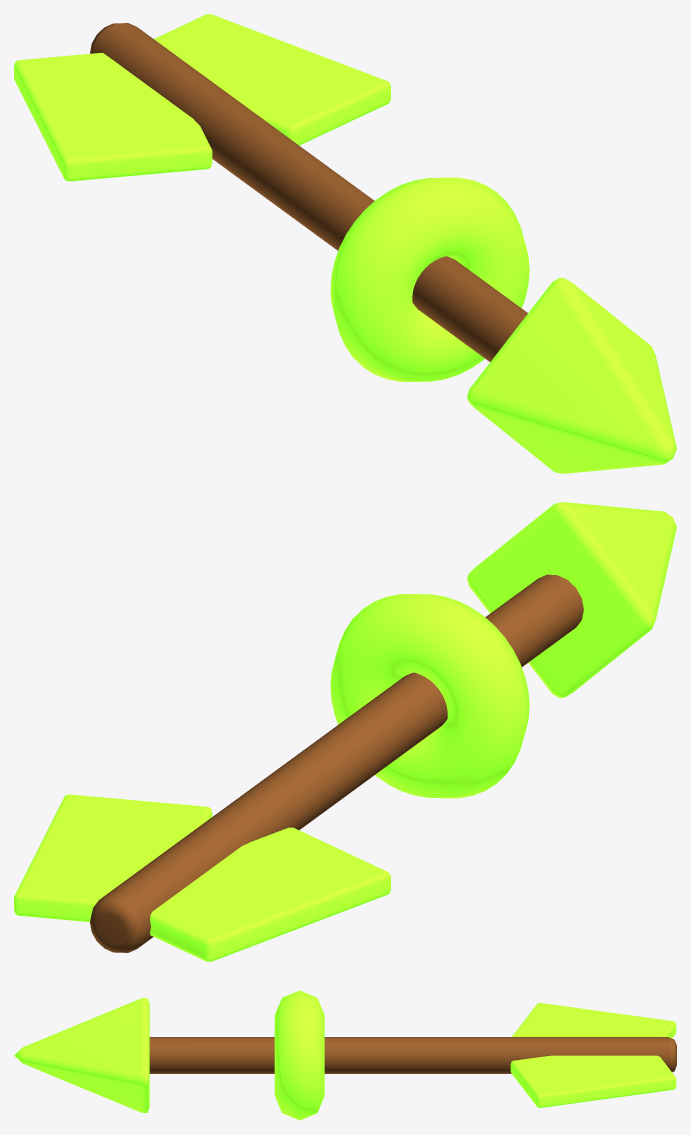
The model's file is CrossBow_Special.fbx.
The picture shows the model from 3 angles, top to bottom: view 1: azimuth 30°, elevation 25°; view 2: azimuth 150°, elevation 25°; view 3: azimuth 270°, elevation 25°; orthographic projection. The views are drawn at different scales.
Visible parts, largest first — view 1: Piercing head.001, Venom vial, Bolt shaft.001, Fletching.002, Fletching.003; view 2: Bolt shaft.001, Venom vial, Piercing head.001, Fletching.002, Fletching.003; view 3: Bolt shaft.001, Piercing head.001, Fletching.003, Venom vial, Fletching.002.
Boxes of the visible parts, x1,y1,x2,y2 form: Piercing head.001: (467, 277, 676, 473); Venom vial: (330, 177, 529, 381); Bolt shaft.001: (90, 23, 527, 361); Fletching.002: (14, 53, 212, 181); Fletching.003: (154, 14, 390, 145); Bolt shaft.001: (90, 574, 583, 952); Venom vial: (330, 594, 529, 798); Piercing head.001: (467, 502, 676, 698); Fletching.002: (150, 827, 390, 961); Fletching.003: (14, 794, 212, 921); Bolt shaft.001: (149, 1037, 676, 1073); Piercing head.001: (14, 998, 149, 1112); Fletching.003: (510, 1055, 676, 1107); Venom vial: (274, 990, 324, 1120); Fletching.002: (512, 1003, 676, 1038).
Size of the model in its own units: 66.66 by 39 by 199.
